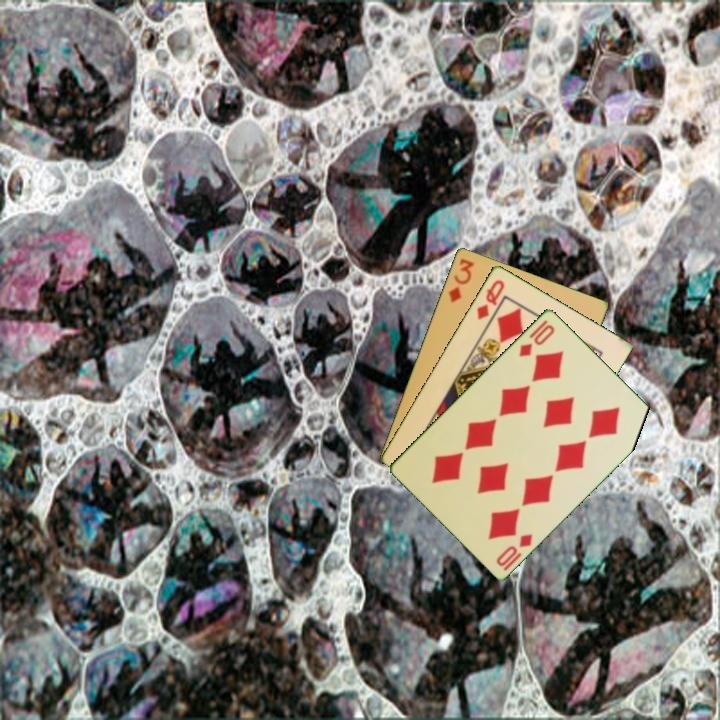10d: (493, 530, 536, 573), (515, 320, 558, 359)
3d: (445, 254, 477, 306)
Qd: (473, 276, 508, 322)
